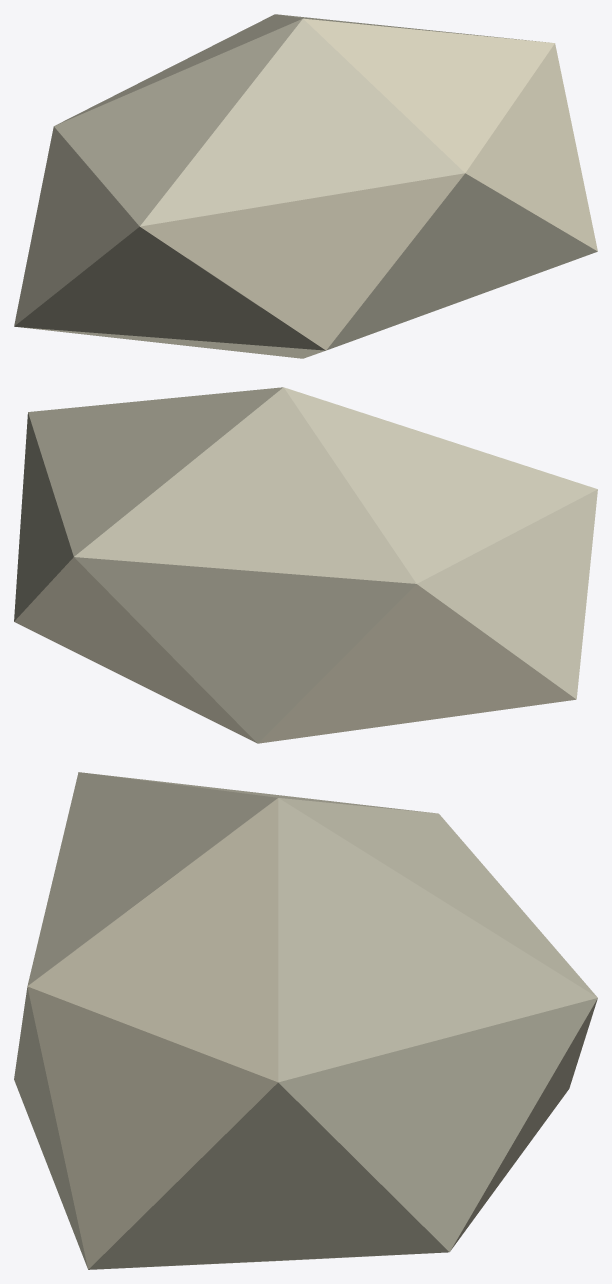
Rendered from Rock_A.fbx.
The picture shows the model from 3 angles, top to bottom: view 1: azimuth 30°, elevation 25°; view 2: azimuth 150°, elevation 25°; view 3: azimuth 270°, elevation 25°; orthographic projection. The views are drawn at different scales.
Parts seen in each view (by area): view 1: Rock_A; view 2: Rock_A; view 3: Rock_A.
Part boxes in pixels (x1,y1,x2,y2): Rock_A: (14,14,597,358); Rock_A: (14,387,597,743); Rock_A: (14,772,597,1269).
Bounding box in the file's own units: 216 × 130 × 148.
